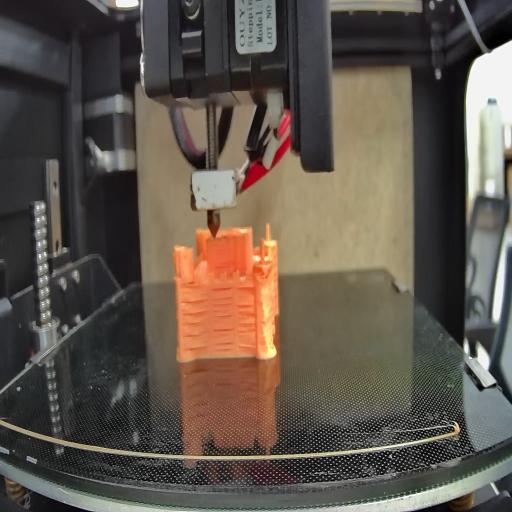cracks: (180, 298, 208, 352), (237, 301, 257, 353), (211, 286, 234, 319), (212, 324, 236, 352), (236, 282, 253, 293)
